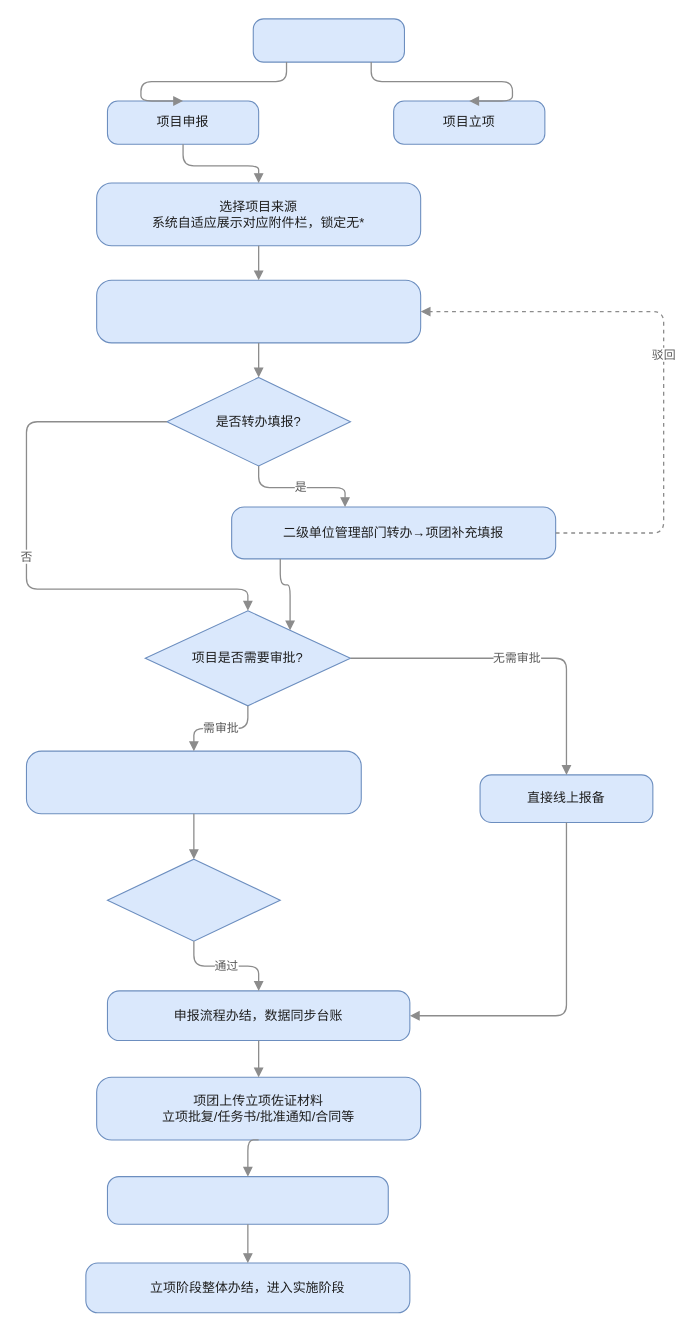
The diagram is 694 pixels wide and 1332 high, and some of its shapes have lost their labels. Here are the shapes that lost their labels. From the top down, the box of each, then its label:
(252, 18, 404, 62): 立项阶段
(96, 279, 421, 343): 项团上传审批全套材料 建议书/申请书/任务清单/评审意见等
(25, 750, 361, 814): 按项目渠道走差异化线上审签流程 国家级/地方级/公司级多级审批
(106, 858, 280, 941): 审批结果
(106, 1176, 388, 1224): 提交总部科技部备案归档
